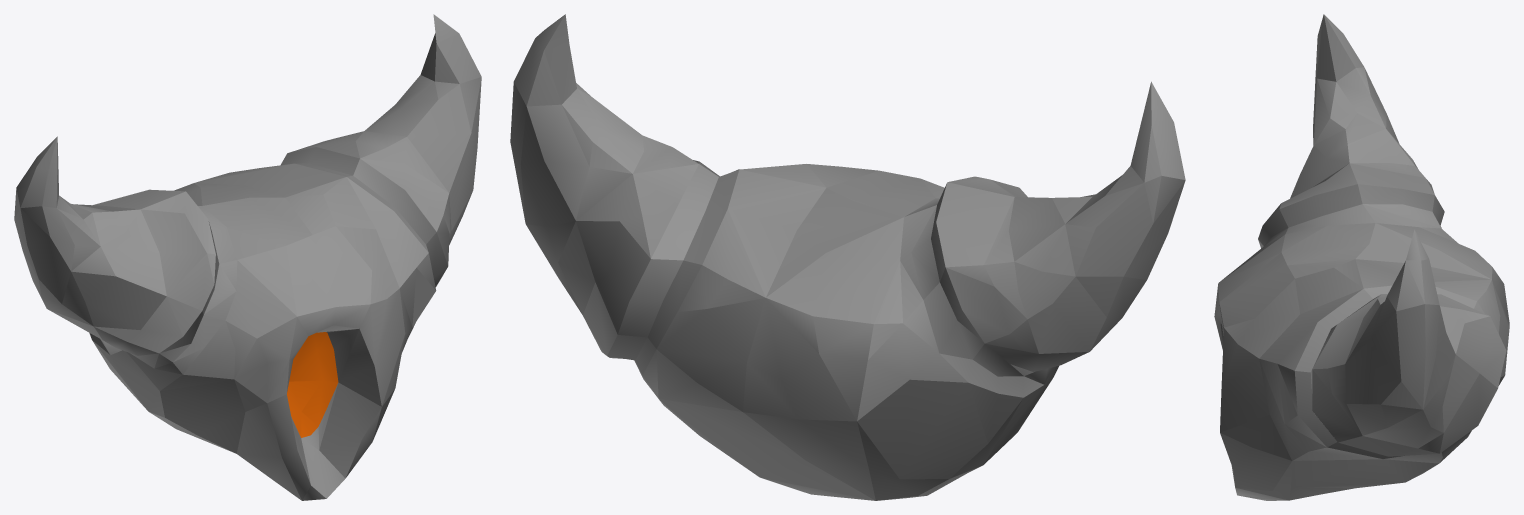
The model's file is RockGolemHead.fbx.
The picture shows the model from 3 angles, left to right: view 1: azimuth 30°, elevation 25°; view 2: azimuth 150°, elevation 25°; view 3: azimuth 270°, elevation 25°; orthographic projection. The views are drawn at different scales.
Visible parts, largest first — view 1: Stone012.001; view 2: Stone012.001; view 3: Stone012.001.
Part boxes in pixels (x1=…): Stone012.001: x1=14, y1=14, x2=481, y2=500; Stone012.001: x1=510, y1=14, x2=1185, y2=500; Stone012.001: x1=1214, y1=14, x2=1509, y2=500.
Bounding box in the file's own units: 1138 × 861 × 605.
